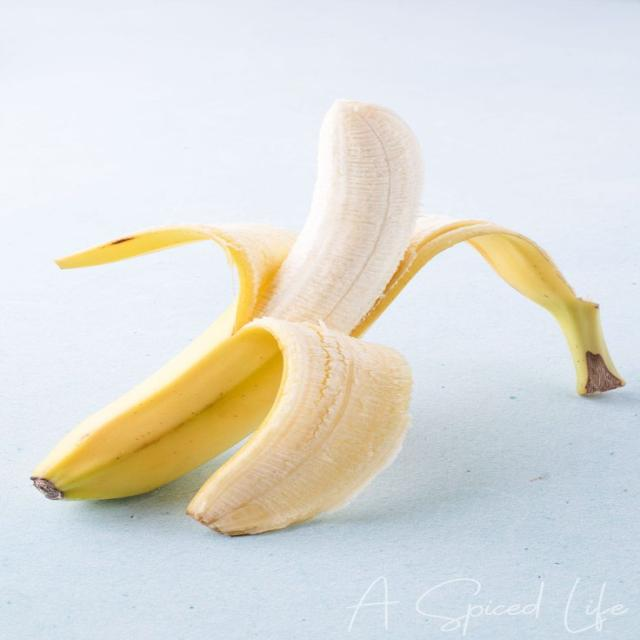banana: (33, 101, 623, 533), (34, 101, 421, 499), (187, 319, 411, 534), (354, 216, 624, 394)
